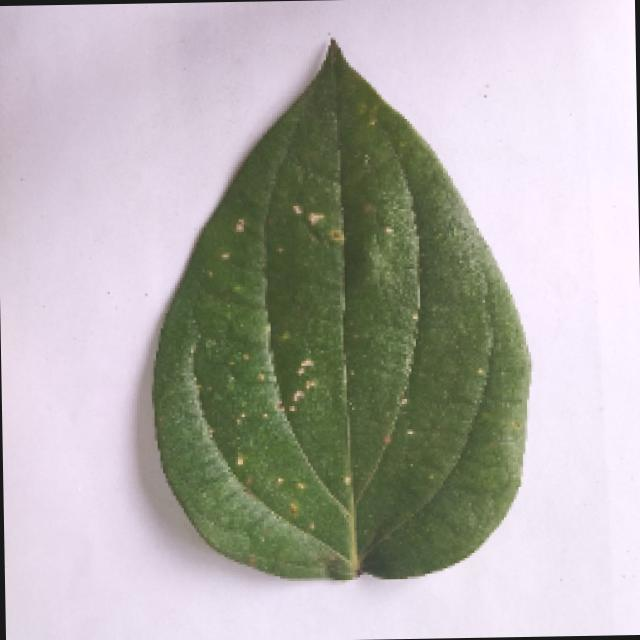pollu-disease: (143, 38, 532, 586)
